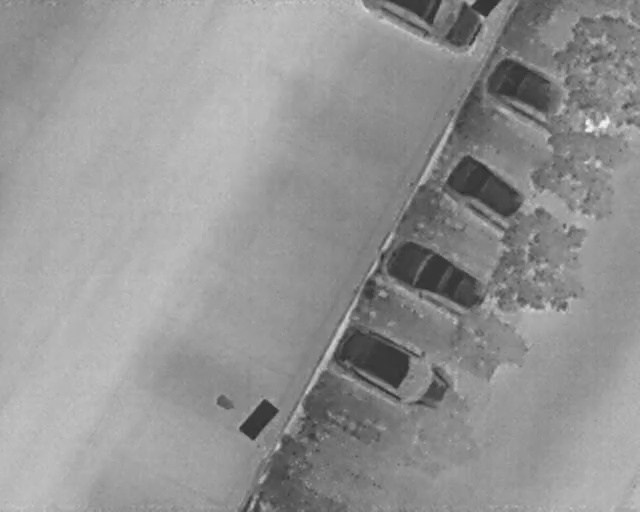Car: (470, 44, 622, 161), (322, 315, 467, 427), (436, 144, 565, 252), (375, 229, 505, 332), (355, 0, 488, 53)
